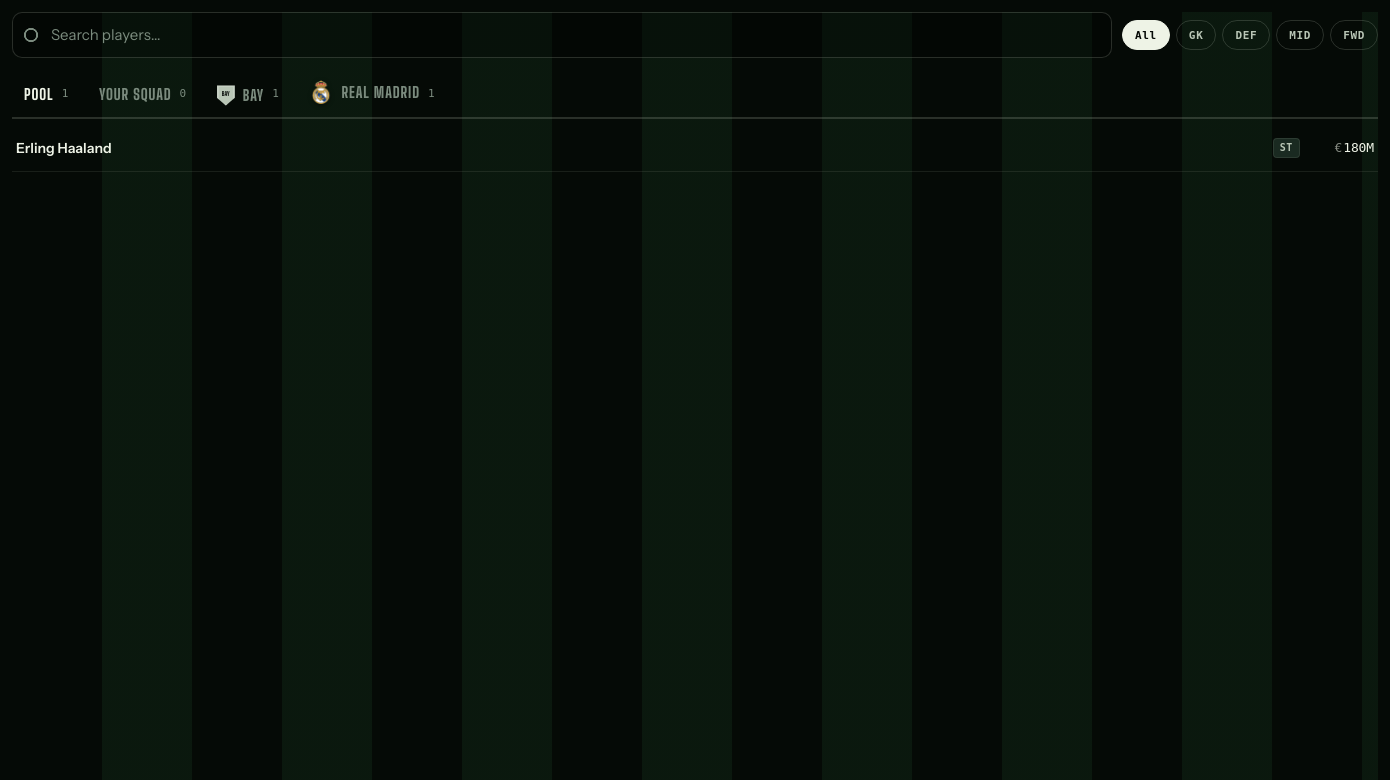
Scenario: a player with no rating or specialty data still opens a card gracefully, with no placeholder text
What coordinates should you click on to do the following:
click the tab "BAY Bay 1"
I would click on:
 (248, 96)
Its box is x1=205 y1=72 x2=291 y2=119.
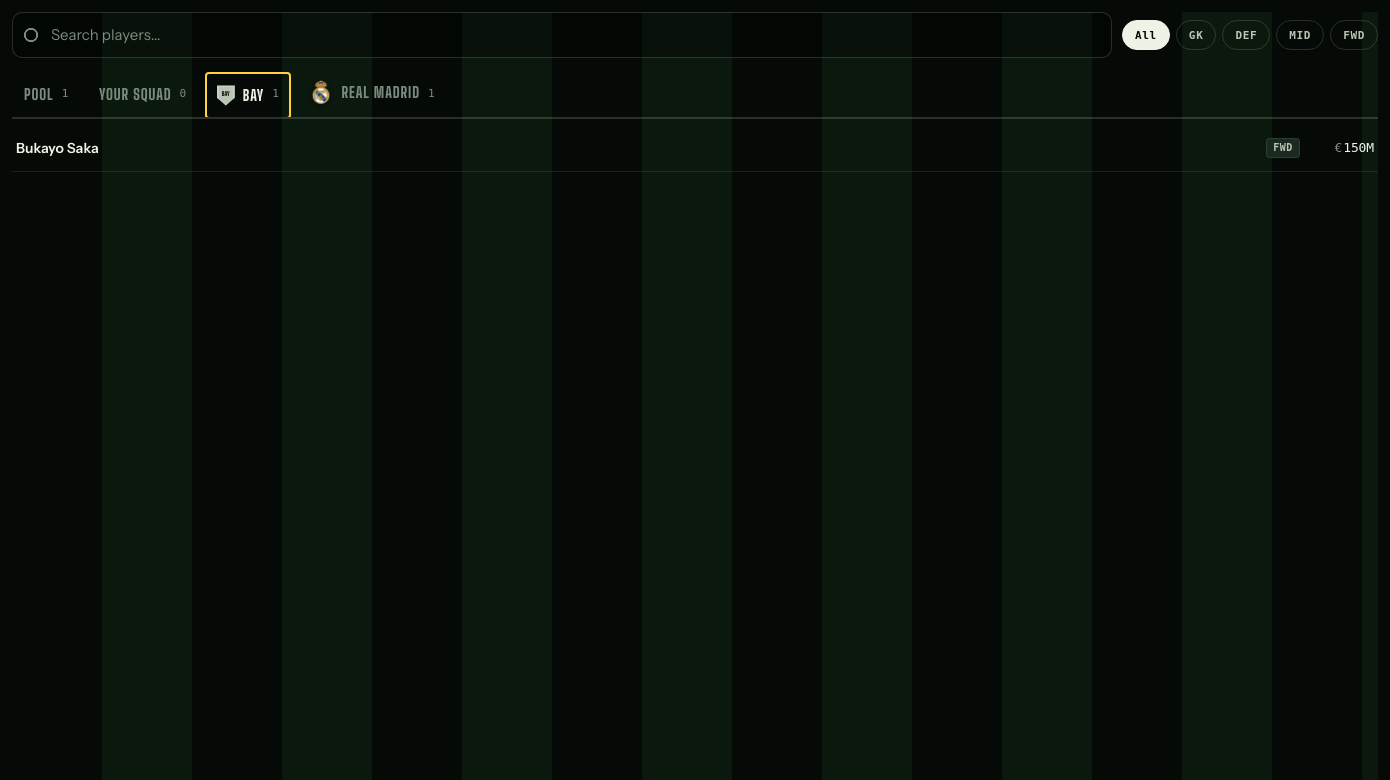
What coordinates should you click on to do the following:
click the button "Bukayo Saka FWD 150M"
I would click on:
 (57, 148)
Its box is x1=12 y1=125 x2=1378 y2=171.
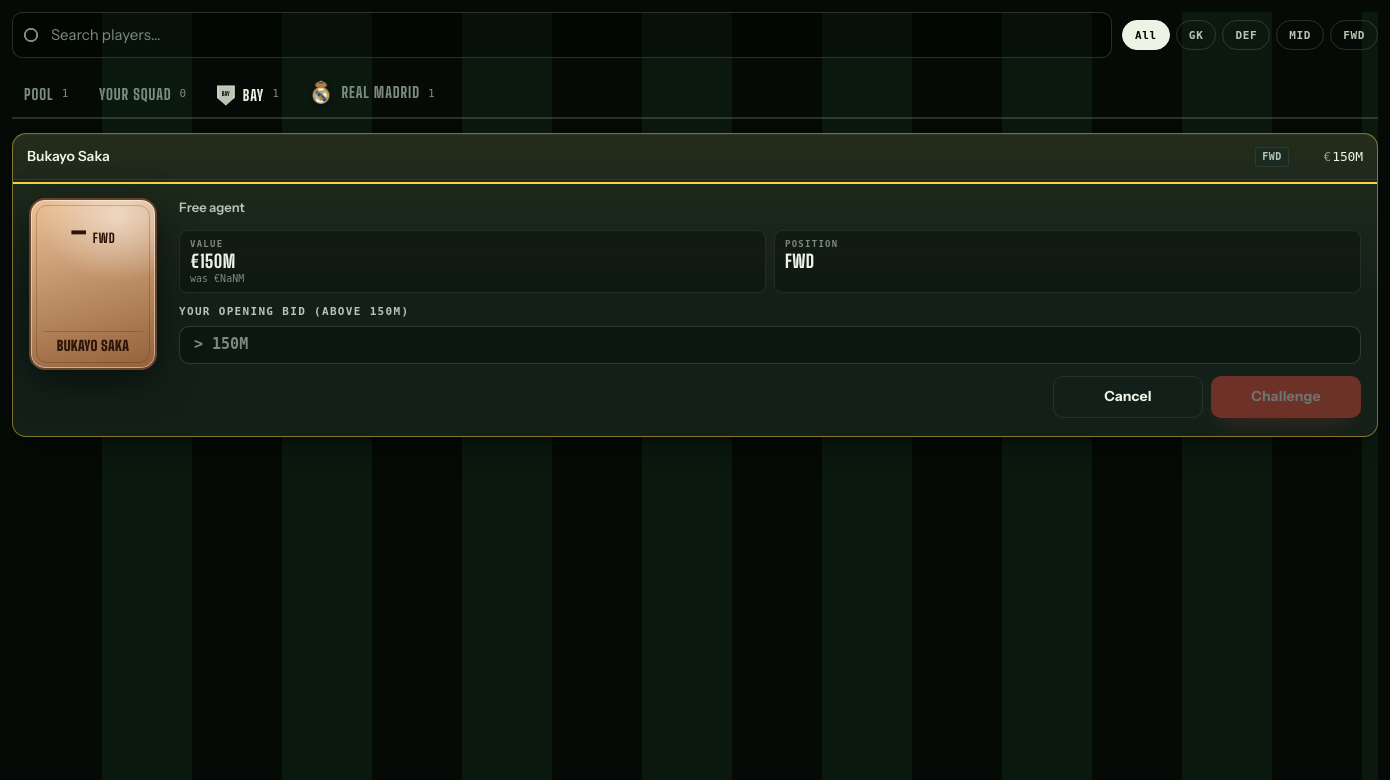
Result: the button "Cancel" is shown at x1=1053 y1=376 x2=1203 y2=418
